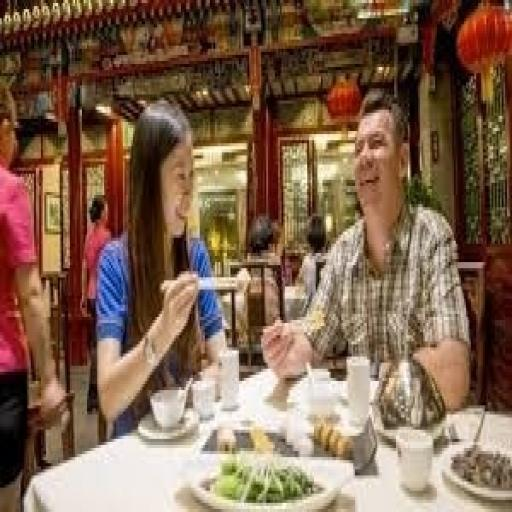eating: (259, 86, 473, 412), (92, 94, 229, 439)
